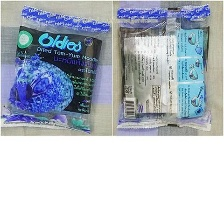snack: (0, 0, 112, 134), (113, 0, 217, 135)
